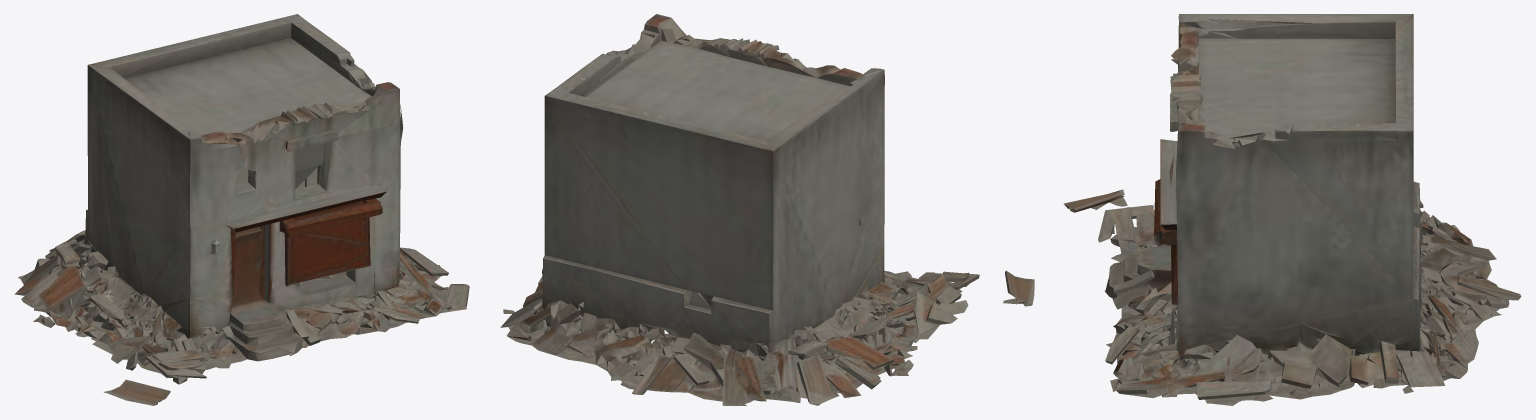
Rendered from ruine_3.glb.
3 renders of one model, left to right at view 1: azimuth 30°, elevation 25°; view 2: azimuth 150°, elevation 25°; view 3: azimuth 270°, elevation 25°, orthographic. The views are drawn at different scales.
Size of the model in its own units: 1.85 by 0.9669 by 1.67.
1 material, 1 textured.
